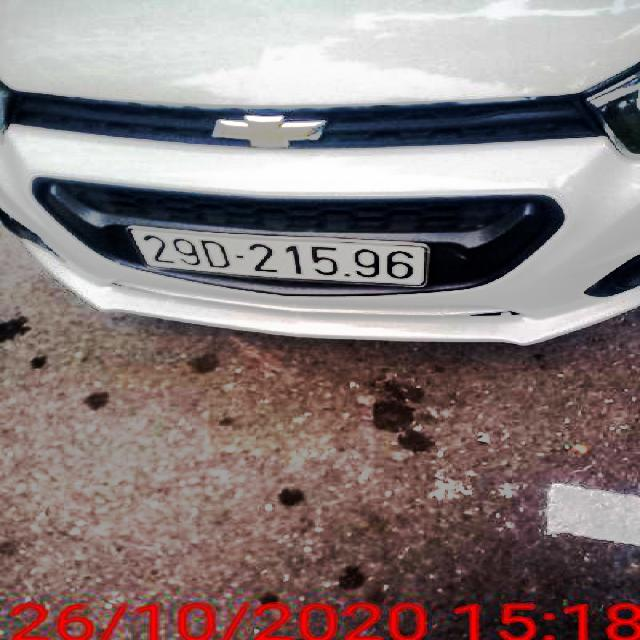license_plate: (131, 232, 425, 284)
